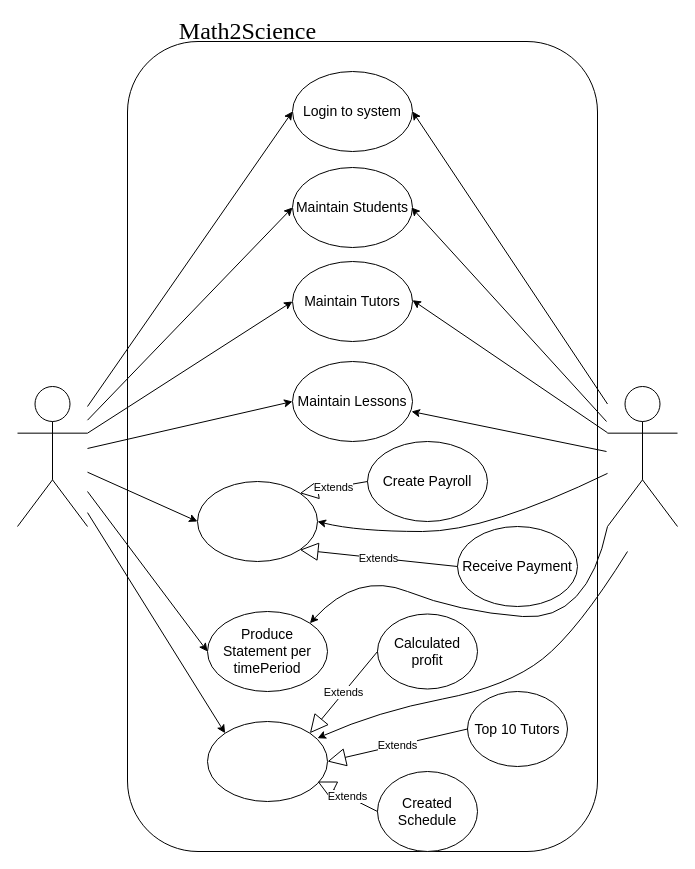
This 695x869 diagram has some shape labels left out. Each missing label, with the centre of its shape:
"Admin" goes at (x=642, y=456).
"Create Report" goes at (x=267, y=761).
"Payments" goes at (x=257, y=521).
"Staff & Students" goes at (x=52, y=456).
